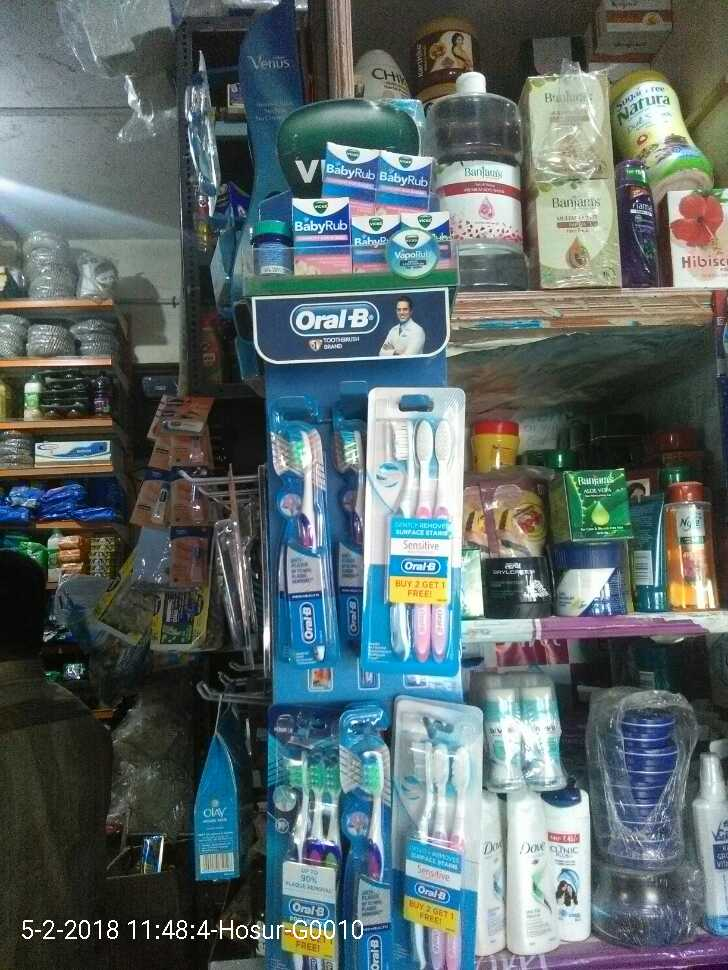pharmacy: (239, 147, 442, 285), (370, 421, 461, 665), (395, 703, 466, 970), (270, 725, 342, 970), (274, 421, 339, 665), (350, 715, 386, 965)
